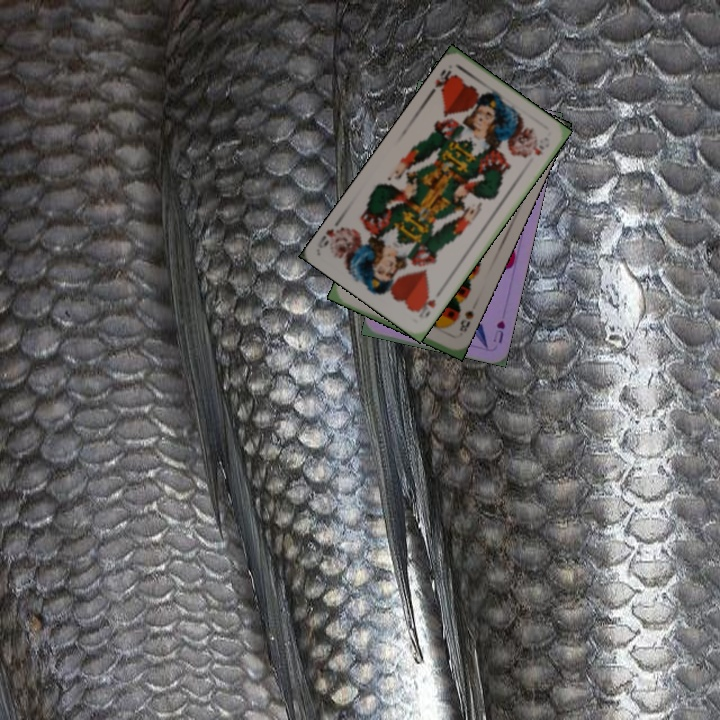HO: (425, 65, 458, 98), (413, 292, 438, 320)
HU: (489, 316, 508, 346)
S8: (455, 307, 476, 335)
